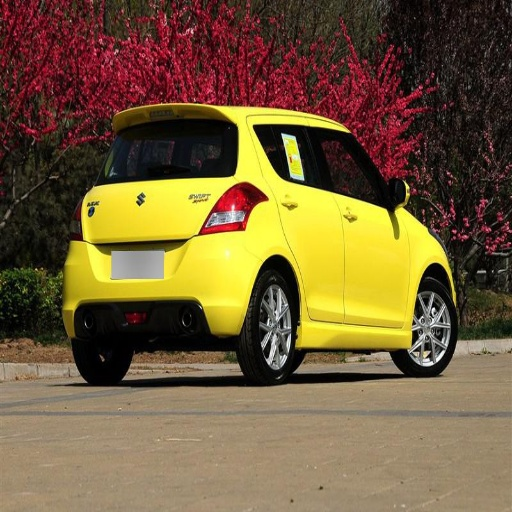back_bumper: (65, 231, 261, 338)
back_right_door: (275, 124, 342, 323)
tailgate: (82, 179, 206, 252)
